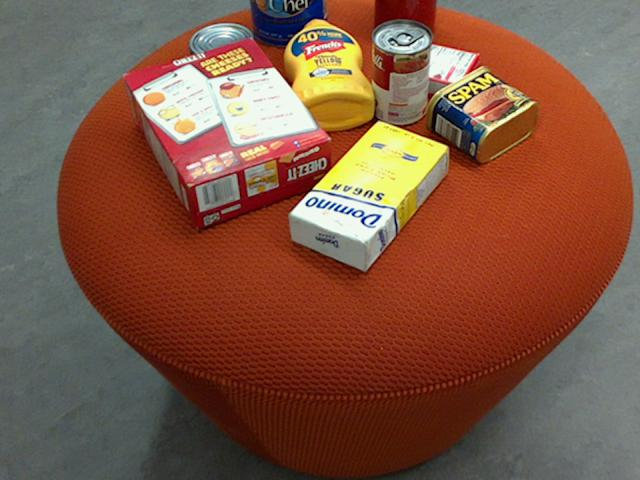cracker_box: (120, 36, 331, 226)
gelatin_box: (392, 40, 479, 101)
large_marker: (393, 0, 410, 36)
master_chef_can: (248, 0, 326, 45)
mug: (372, 0, 435, 42)
mustard_bottle: (282, 19, 373, 130)
potted_meat_can: (423, 65, 536, 162)
sugar_box: (289, 119, 448, 272)
tomato_soup_can: (370, 18, 431, 124)
tuna_fish_can: (186, 23, 255, 79)
